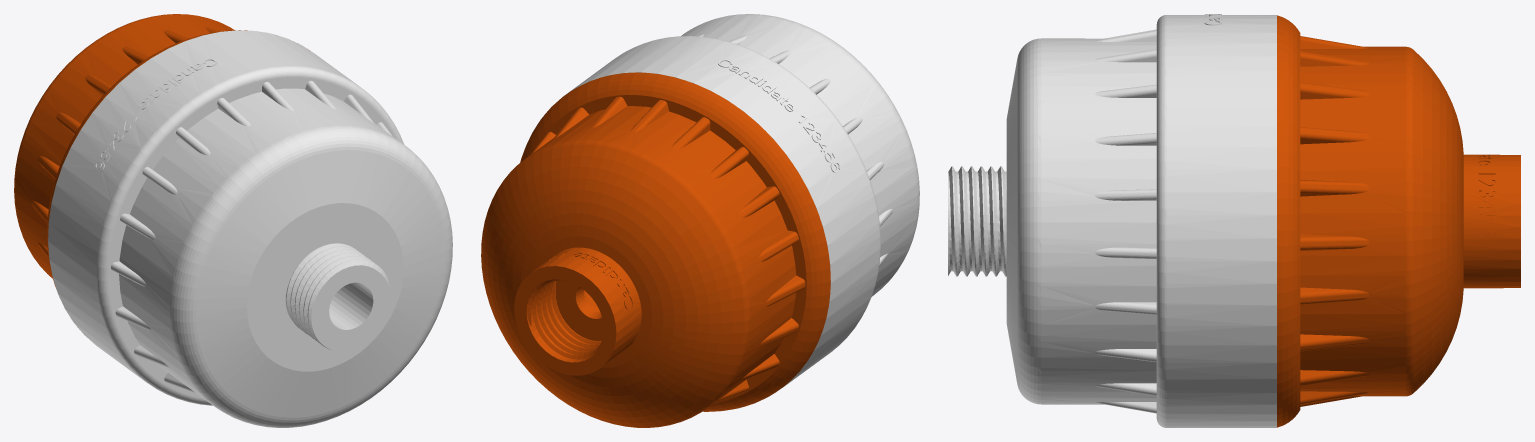
Rendered from Water Filter Assembly Project.fbx.
The picture shows the model from 3 angles, left to right: view 1: azimuth 30°, elevation 25°; view 2: azimuth 150°, elevation 25°; view 3: azimuth 270°, elevation 25°; orthographic projection. The views are drawn at different scales.
Parts seen in each view (by area): view 1: water Filter Assembly - Bottom Filter Case-1, water Filter Assembly - Top Filter Case-1; view 2: water Filter Assembly - Top Filter Case-1, water Filter Assembly - Bottom Filter Case-1; view 3: water Filter Assembly - Bottom Filter Case-1, water Filter Assembly - Top Filter Case-1.
Part boxes in pixels (left/top/right/bottom): water Filter Assembly - Bottom Filter Case-1: left=48, top=30, right=452, bottom=427; water Filter Assembly - Top Filter Case-1: left=14, top=14, right=247, bottom=329; water Filter Assembly - Top Filter Case-1: left=481, top=72, right=830, bottom=427; water Filter Assembly - Bottom Filter Case-1: left=540, top=14, right=919, bottom=410; water Filter Assembly - Bottom Filter Case-1: left=948, top=14, right=1276, bottom=427; water Filter Assembly - Top Filter Case-1: left=1277, top=15, right=1520, bottom=427.
Bounding box in the file's own units: 8449 × 8449 × 11720.
